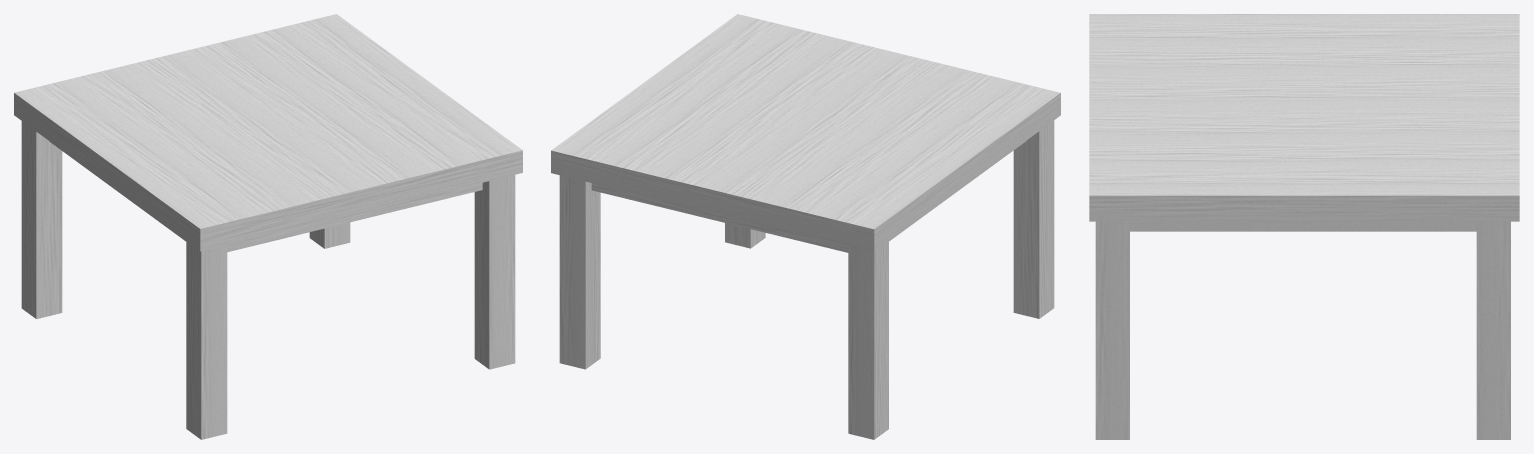
File: Little_Table.FBX
The picture shows the model from 3 angles, left to right: view 1: azimuth 30°, elevation 25°; view 2: azimuth 150°, elevation 25°; view 3: azimuth 270°, elevation 25°; orthographic projection. The views are drawn at different scales.
Visible parts, largest first — view 1: Little_Table; view 2: Little_Table; view 3: Little_Table.
Boxes of the visible parts, x1,y1,x2,y2 form: Little_Table: (14, 14, 522, 439); Little_Table: (551, 14, 1060, 439); Little_Table: (1089, 14, 1519, 439).
Size of the model in its own units: 150 by 95 by 150.
